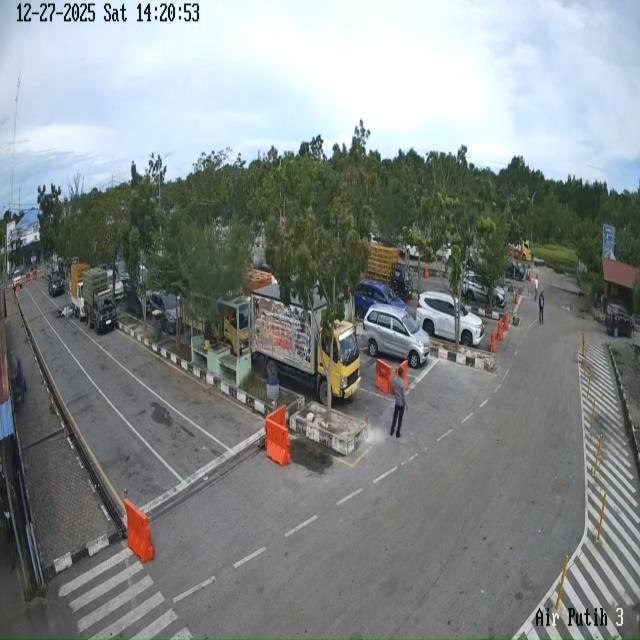Golongan IVA: (363, 304, 430, 369), (416, 291, 484, 347), (354, 279, 406, 320), (462, 271, 507, 308), (147, 293, 177, 334), (604, 303, 634, 338), (48, 272, 65, 298)
Golongan IVB: (82, 268, 117, 334), (70, 263, 89, 321)
Golongan VB: (250, 283, 361, 405)
